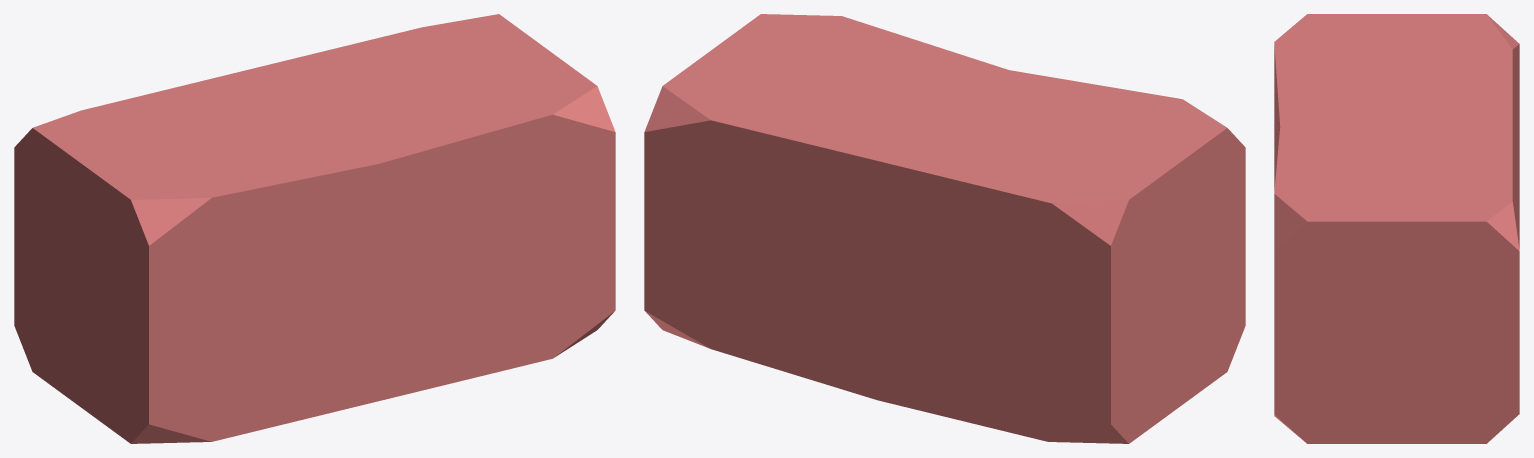
The model's file is brick.glb.
3 renders of one model, left to right at view 1: azimuth 30°, elevation 25°; view 2: azimuth 150°, elevation 25°; view 3: azimuth 270°, elevation 25°, orthographic. The views are drawn at different scales.
Visible parts, largest first — view 1: Cube; view 2: Cube; view 3: Cube.
Boxes of the visible parts, <box> form: Cube: <box>14,14,615,443</box>; Cube: <box>644,14,1245,443</box>; Cube: <box>1274,14,1519,443</box>.
Bounding box in the file's own units: 2 × 1 × 1.
